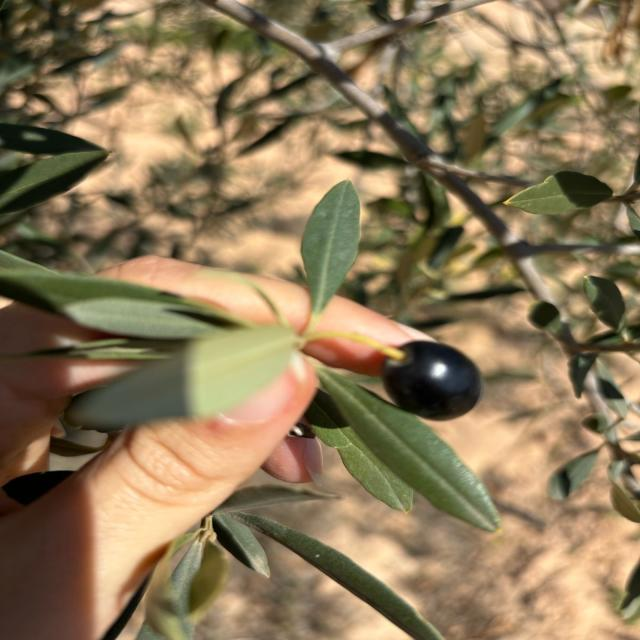Healthy: (319, 368, 499, 532), (301, 180, 360, 330), (381, 340, 482, 421)
